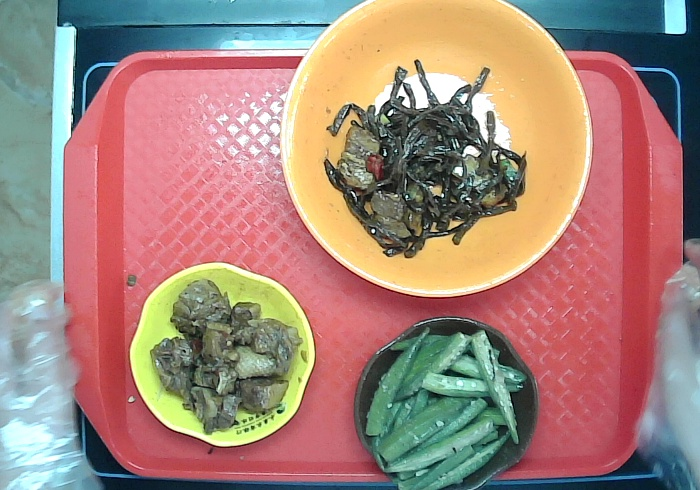YKMZ-Huang_Se_Ao_Bian_Wan: (125, 263, 315, 450)
YKMZ-Ju_Se_Tang_Wan: (277, 1, 595, 301)
YKMZ-Ka_Fei_Ao_Bian_Wan: (354, 316, 537, 490)
